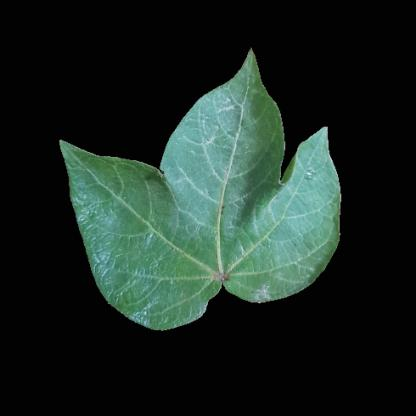healthy: (100, 178, 306, 282), (244, 185, 312, 263), (201, 110, 279, 176), (128, 282, 204, 318)
